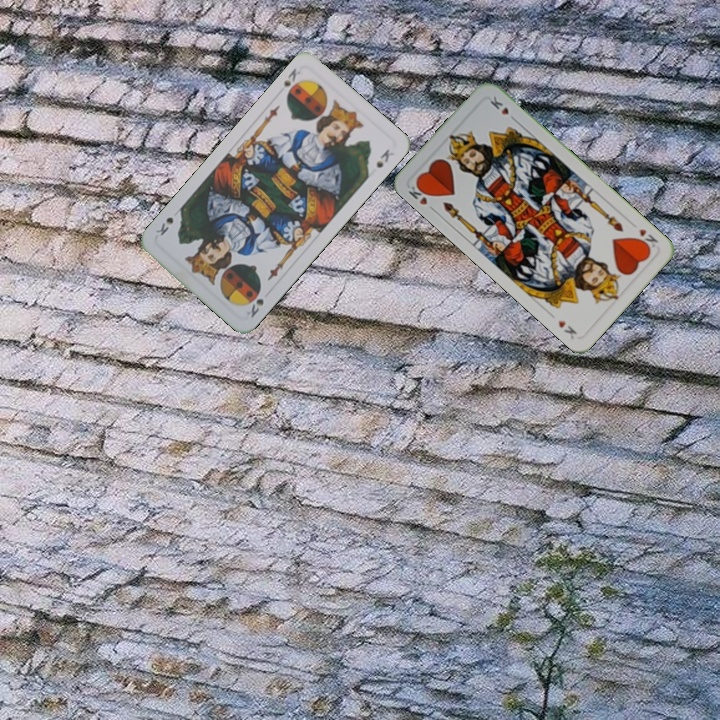HK: (405, 178, 438, 214), (633, 225, 661, 252)
SK: (242, 295, 266, 321), (279, 64, 303, 90)
